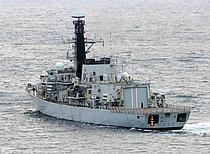MIL_Ship: (22, 14, 192, 131)
